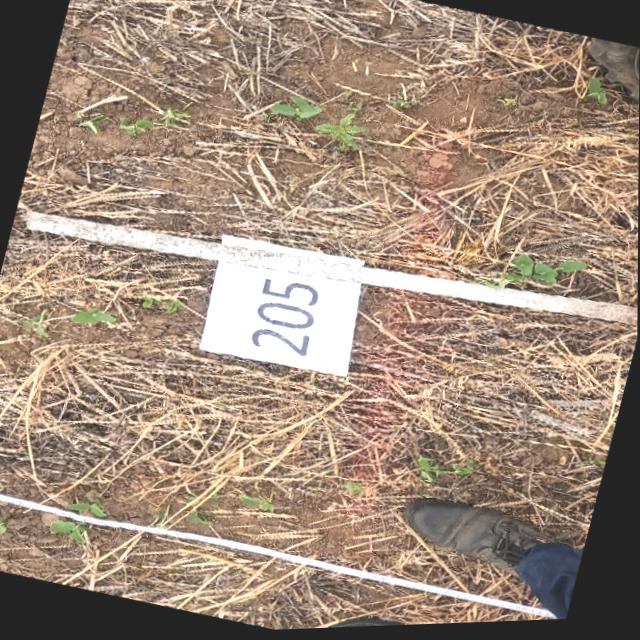caruru_weed: (315, 114, 365, 150)
soy_plant: (498, 257, 587, 290), (119, 108, 189, 137), (417, 458, 479, 486), (269, 96, 321, 121), (50, 519, 89, 544), (71, 307, 118, 324), (142, 296, 183, 314), (23, 309, 49, 337), (585, 82, 607, 108), (79, 114, 107, 133), (70, 499, 105, 514), (345, 481, 367, 499), (391, 101, 423, 112)
